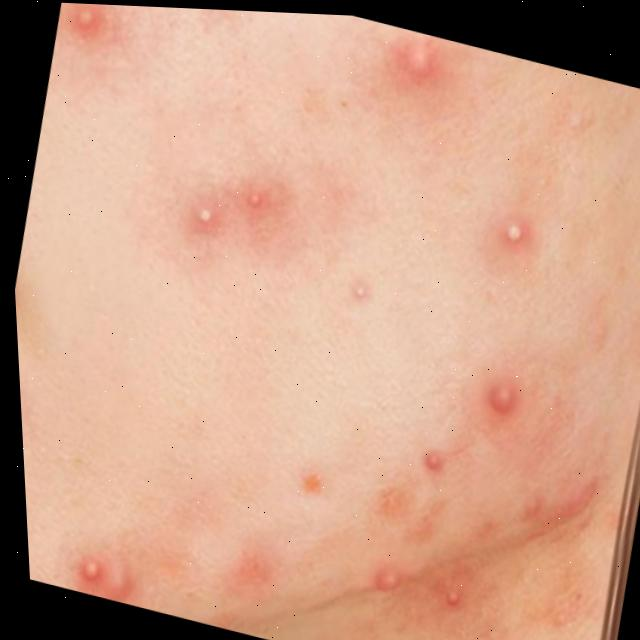Acne: (0, 0, 629, 640)
